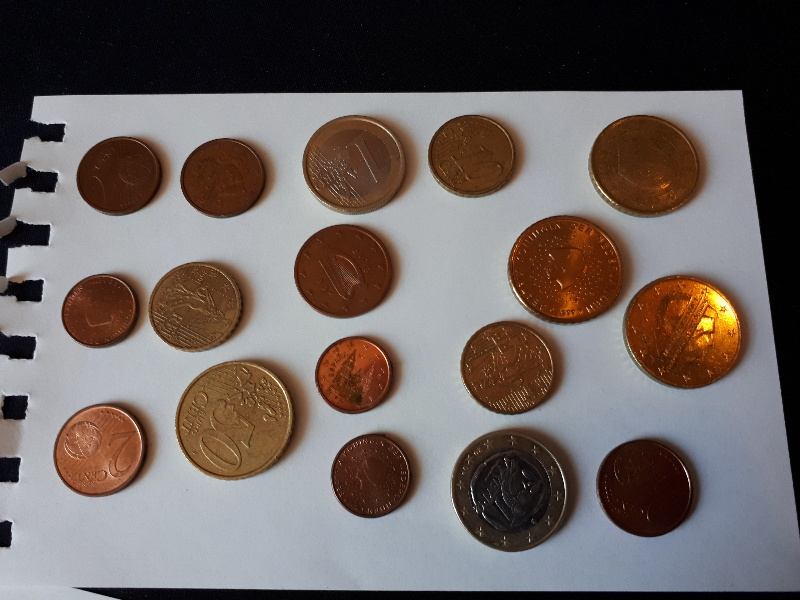1 cent: (329, 432, 413, 519), (314, 333, 397, 416), (61, 273, 140, 350)
1 euro: (448, 428, 572, 555), (301, 112, 409, 216)
10 cent: (457, 319, 557, 417), (146, 261, 247, 355), (427, 113, 518, 198)
2 cent: (595, 438, 696, 540), (50, 403, 150, 502), (179, 137, 268, 221), (75, 135, 163, 217)
5 cent: (292, 222, 395, 322)
50 cent: (172, 358, 298, 482), (622, 272, 747, 391), (505, 214, 628, 326), (585, 113, 702, 220)
